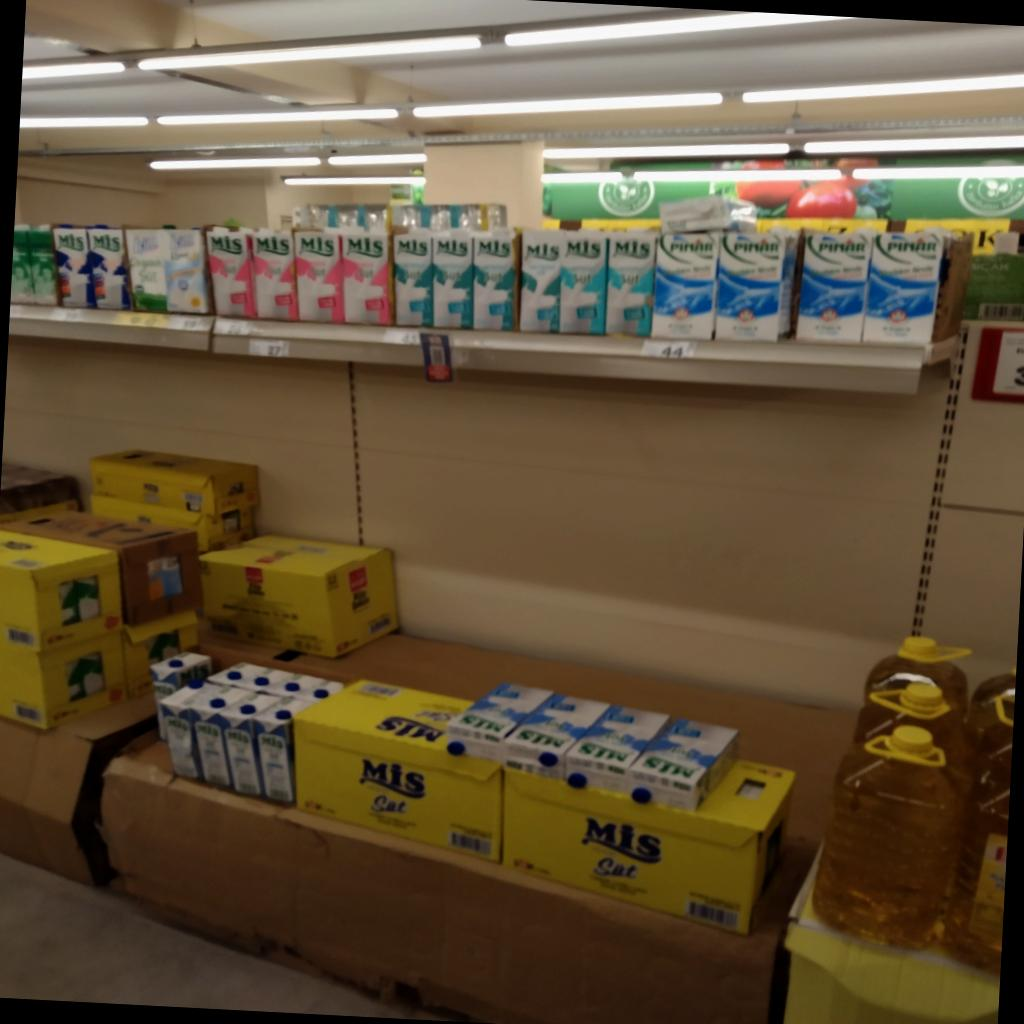price_tag: (641, 339, 695, 359), (111, 311, 170, 329), (248, 338, 290, 358), (214, 318, 254, 336), (166, 315, 209, 331), (383, 328, 419, 345), (51, 308, 89, 322), (9, 304, 34, 318)
product: (627, 719, 738, 811), (715, 228, 797, 341), (863, 230, 944, 344), (567, 706, 671, 792), (503, 694, 606, 779), (797, 230, 873, 343), (447, 683, 552, 763), (651, 231, 721, 339), (256, 697, 316, 804), (223, 691, 276, 796), (606, 230, 656, 336), (193, 685, 244, 787), (559, 230, 609, 334), (341, 225, 391, 326), (293, 230, 344, 323), (206, 227, 257, 317), (520, 230, 565, 332), (473, 230, 516, 329), (392, 227, 434, 328), (253, 229, 299, 320), (432, 229, 474, 328), (159, 685, 202, 780), (87, 226, 131, 310), (126, 229, 170, 312), (165, 232, 208, 313), (54, 225, 96, 307), (150, 653, 211, 703), (29, 227, 59, 305), (10, 225, 34, 302)
